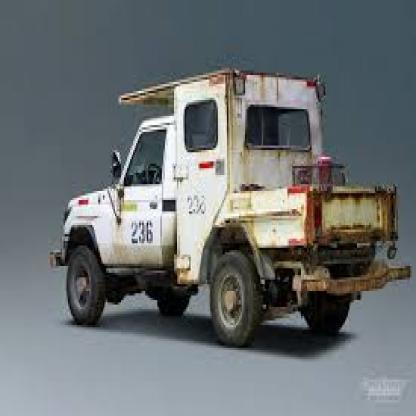light_vehicle: (47, 52, 410, 373)
